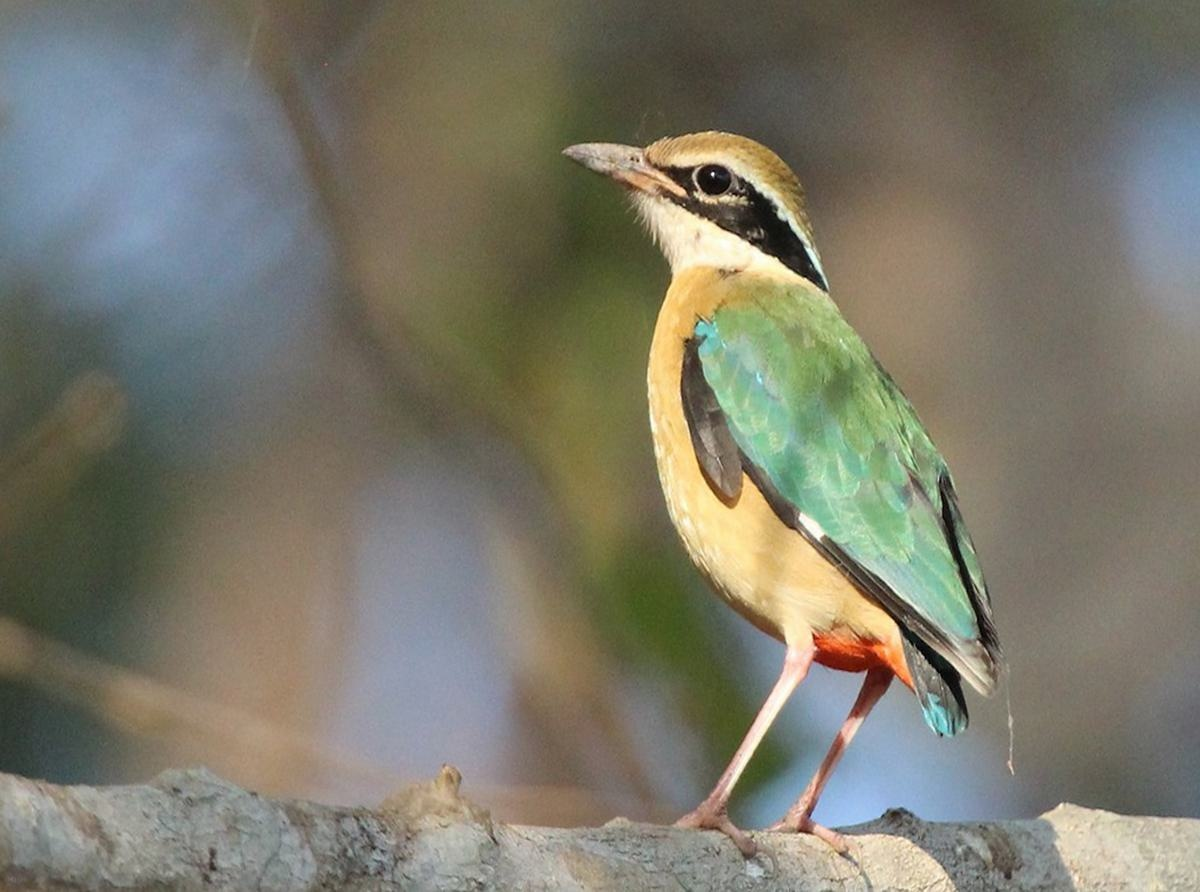pitta: (535, 72, 981, 753)
